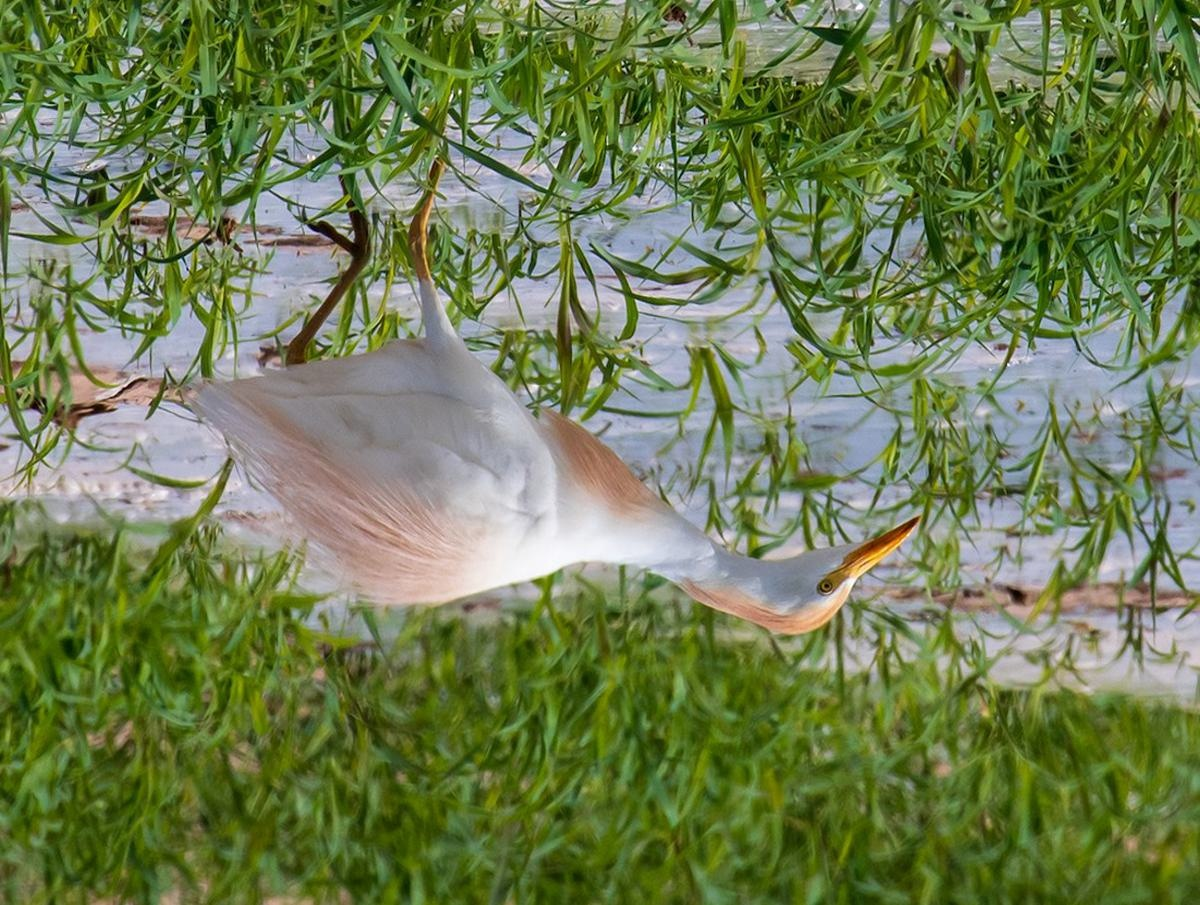egret: (150, 119, 927, 655)
